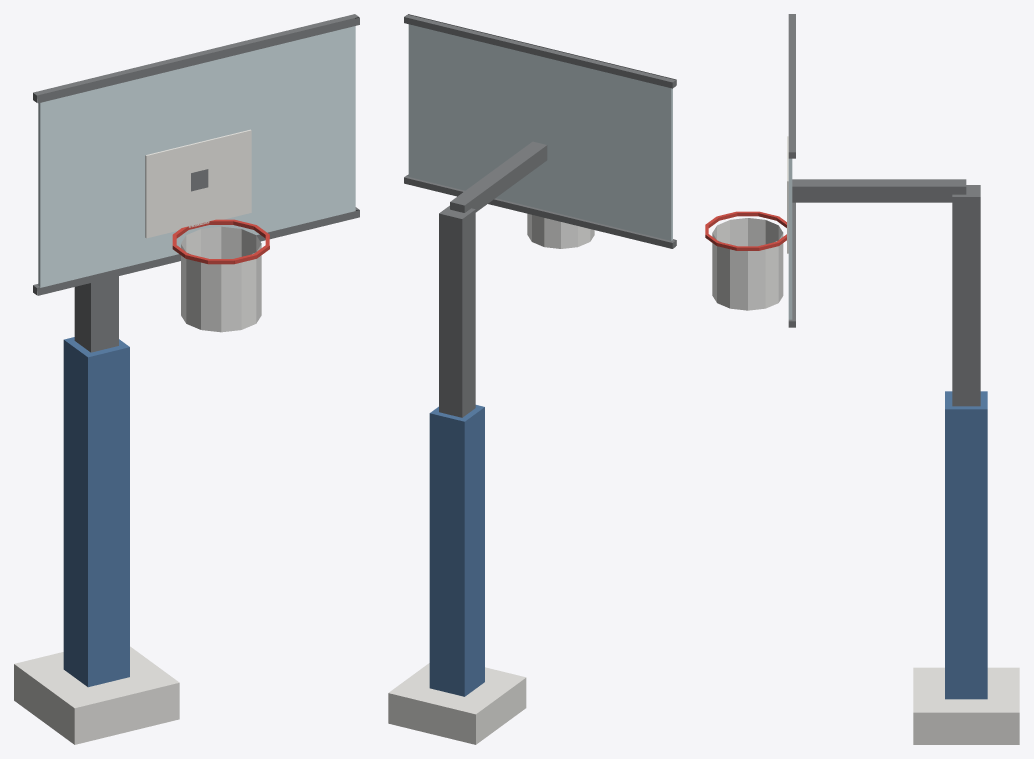
The model's file is Basketball_Hoop.fbx.
The picture shows the model from 3 angles, left to right: view 1: azimuth 30°, elevation 25°; view 2: azimuth 150°, elevation 25°; view 3: azimuth 270°, elevation 25°; orthographic projection. The views are drawn at different scales.
Parts seen in each view (by area): view 1: Basketball_Hoop; view 2: Basketball_Hoop; view 3: Basketball_Hoop.
Boxes of the visible parts, box(x1,y1,x2,y2) form: Basketball_Hoop: box(14, 14, 359, 744); Basketball_Hoop: box(388, 14, 676, 744); Basketball_Hoop: box(705, 14, 1019, 744).
Size of the model in its own units: 1.84 by 3.97 by 1.77.
